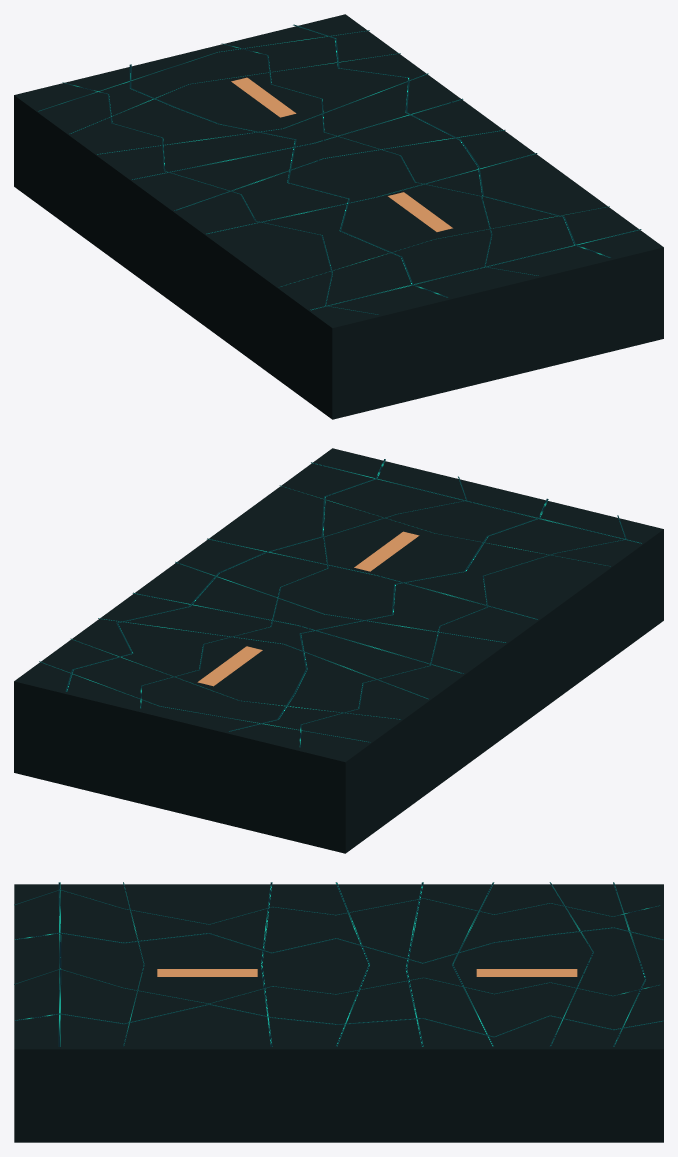
The model's file is road1.fbx.
The picture shows the model from 3 angles, top to bottom: view 1: azimuth 30°, elevation 25°; view 2: azimuth 150°, elevation 25°; view 3: azimuth 270°, elevation 25°; orthographic projection.
Parts seen in each view (by area): view 1: Cube.023, Plane.006; view 2: Cube.023, Plane.006; view 3: Cube.023, Plane.006.
Part boxes in pixels (left/top/right/bottom): Cube.023: left=14, top=14, right=663, bottom=419; Plane.006: left=38, top=24, right=641, bottom=314; Cube.023: left=14, top=448, right=663, bottom=853; Plane.006: left=39, top=459, right=641, bottom=747; Cube.023: left=14, top=884, right=663, bottom=1142; Plane.006: left=14, top=882, right=663, bottom=1046.
Size of the model in its own units: 776 by 210 by 1292.
